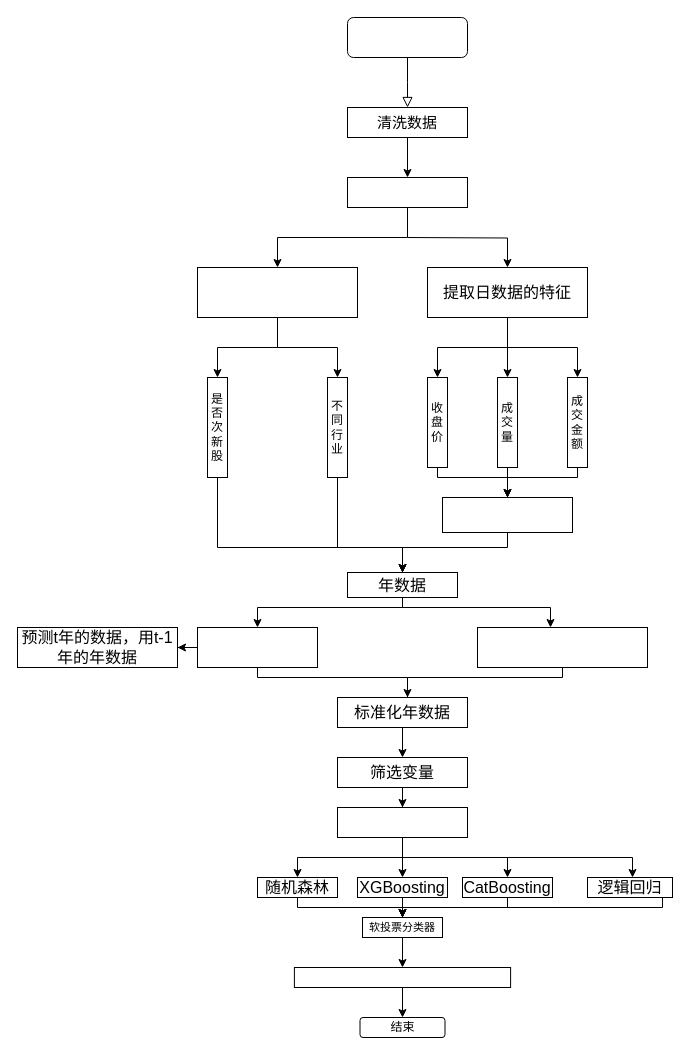
This 690x1055 diagram has some shape labels left out. The shapes that lost their labels are listed below. From the top down, each one's centre as x and y in pixels, then its label:
(407,37): 原始数据
(407,192): 特征工程
(277,292): 提取基础数据的特征
(507,514): 均值 极差 方差 峰度
(257,647): 对年数据进行错位
(562,647): 为年数据添加第t-2年的时序因子
(402,822): 建模
(402,977): 预测第八年可能发生高送转的股票
